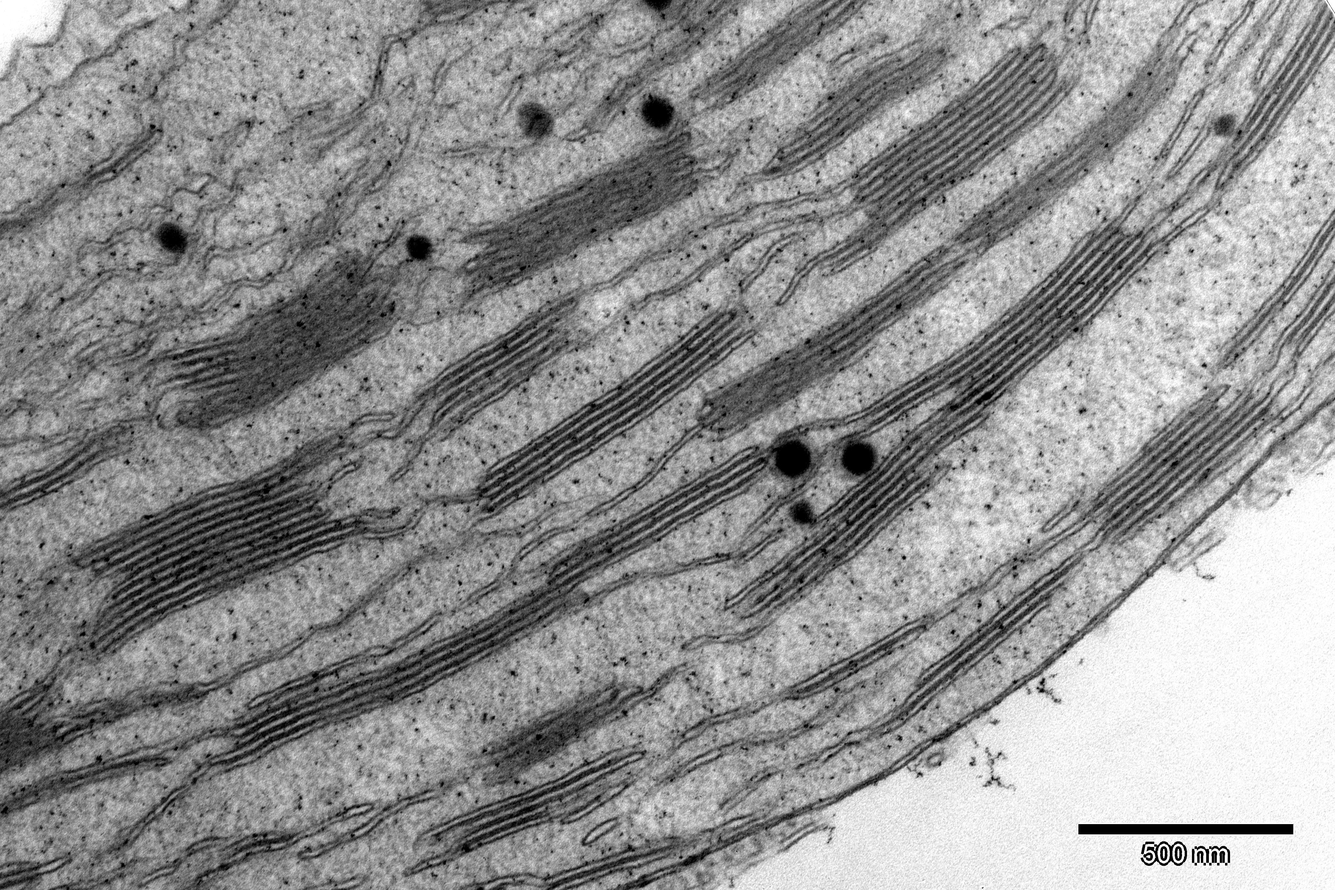granum: (61, 420, 382, 667), (857, 212, 1167, 437), (810, 38, 1082, 282), (224, 580, 565, 771), (472, 301, 761, 522), (736, 390, 993, 631), (691, 246, 967, 445), (946, 51, 1187, 258), (159, 245, 407, 435), (457, 122, 704, 310), (533, 440, 772, 623), (1081, 386, 1286, 551), (772, 25, 969, 180), (408, 291, 595, 442), (1202, 0, 1335, 191), (680, 0, 876, 115), (907, 576, 1058, 704), (469, 679, 639, 790), (458, 753, 620, 854), (0, 416, 140, 529), (0, 672, 131, 781), (1275, 256, 1335, 360), (657, 0, 759, 56), (415, 0, 509, 29), (0, 855, 48, 890)
